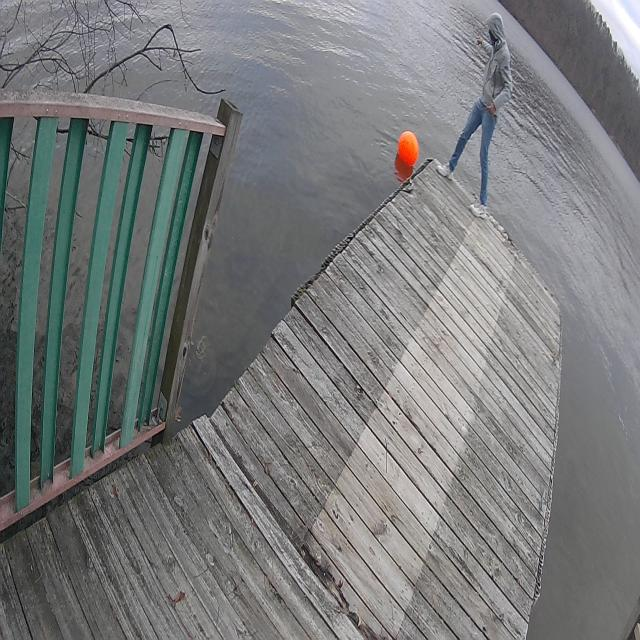Buoy: (397, 127, 420, 171)
